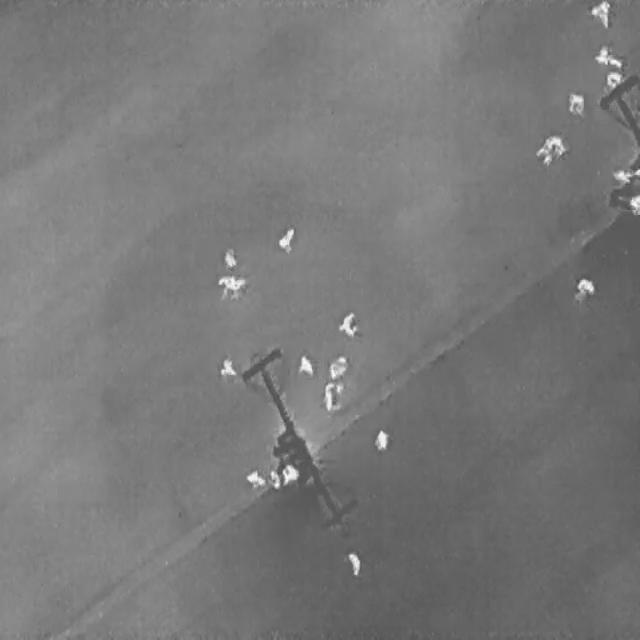Person: (535, 134, 566, 166), (591, 41, 625, 70), (274, 224, 300, 256), (569, 272, 595, 304), (214, 274, 246, 298), (324, 349, 348, 380), (322, 382, 344, 412), (588, 0, 610, 28), (337, 310, 358, 339), (265, 466, 282, 490), (612, 168, 639, 182), (298, 351, 313, 375), (346, 550, 361, 574), (566, 92, 584, 112), (219, 355, 236, 376), (244, 470, 264, 485), (373, 429, 387, 450), (283, 465, 298, 484), (224, 248, 236, 268), (607, 72, 622, 88), (628, 195, 639, 213)
